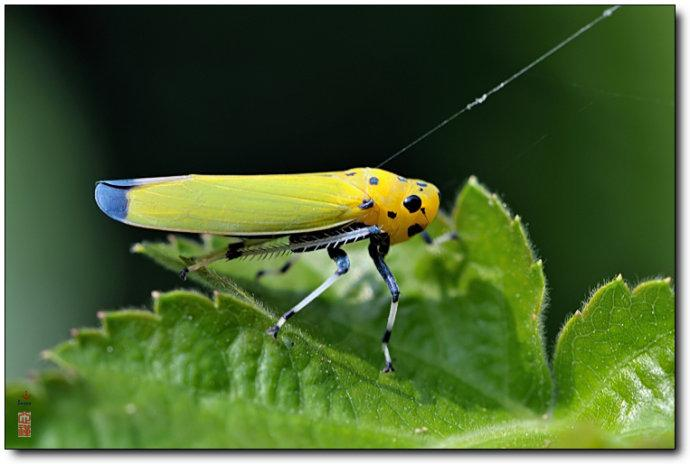Cicadellidae: (90, 164, 457, 375)
